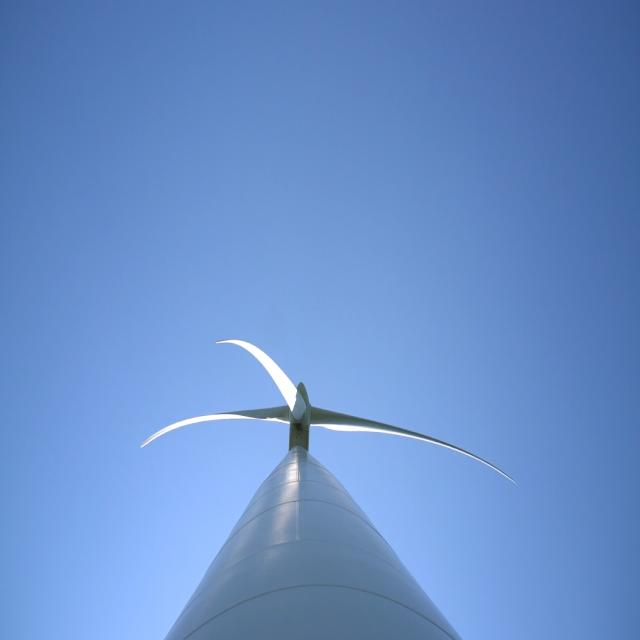blade 1: (335, 390, 527, 467)
blade 2: (87, 396, 259, 461)
blade 3: (215, 309, 286, 385)
